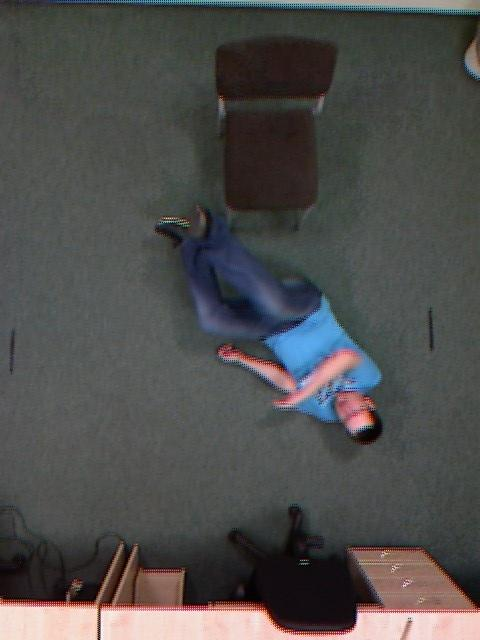fall: (178, 157, 367, 499)
